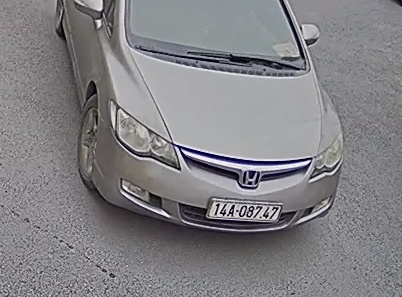vehicle plate: (207, 196, 283, 226)
